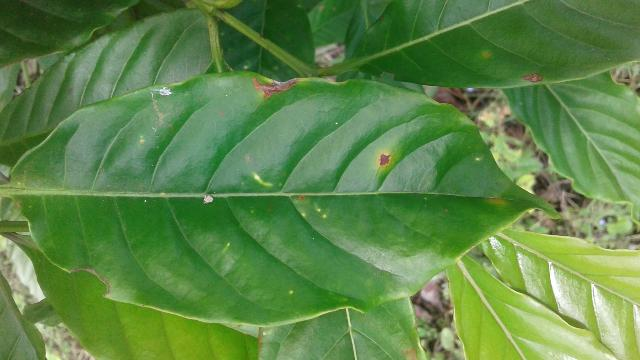rust_level_1: (4, 62, 575, 330)
